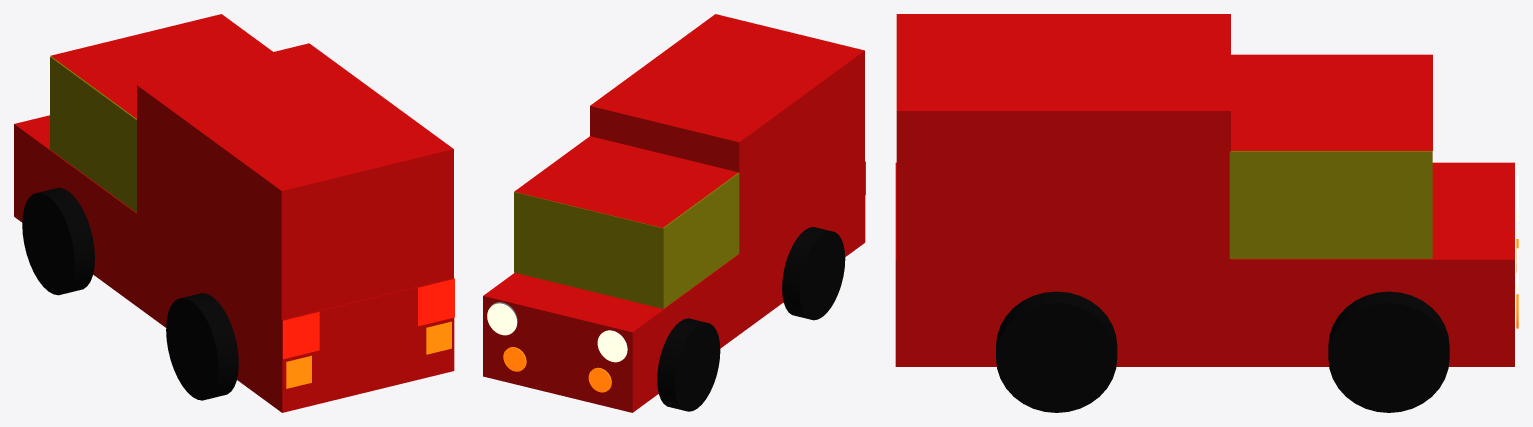
The model's file is pickup truck 1.fbx.
The picture shows the model from 3 angles, left to right: view 1: azimuth 30°, elevation 25°; view 2: azimuth 150°, elevation 25°; view 3: azimuth 270°, elevation 25°; orthographic projection. The views are drawn at different scales.
Parts seen in each view (by area): view 1: Cube.020, Cube.018, Plane.057, Cube.019, Circle.099, Circle.101, Plane.045, Plane.044, Plane.055, Plane.056; view 2: Cube.020, Cube.018, Cube.019, Plane.057, Circle.101, Circle.099, Circle.102, Circle.094, Circle.095, Circle.096; view 3: Cube.020, Cube.018, Cube.019, Plane.057, Circle.098, Circle.100.
Boxes of the visible parts, x1=… form: Cube.020: x1=137, y1=43, x2=453, y2=319; Cube.018: x1=14, y1=115, x2=454, y2=412; Plane.057: x1=50, y1=14, x2=272, y2=118; Cube.019: x1=50, y1=56, x2=136, y2=212; Circle.099: x1=22, y1=187, x2=94, y2=295; Circle.101: x1=166, y1=293, x2=238, y2=400; Plane.045: x1=418, y1=279, x2=454, y2=326; Plane.044: x1=283, y1=312, x2=319, y2=359; Plane.055: x1=426, y1=321, x2=451, y2=354; Plane.056: x1=286, y1=355, x2=311, y2=388; Cube.020: x1=590, y1=14, x2=864, y2=253; Cube.018: x1=483, y1=162, x2=865, y2=412; Cube.019: x1=514, y1=173, x2=739, y2=308; Plane.057: x1=514, y1=136, x2=738, y2=227; Circle.101: x1=782, y1=227, x2=845, y2=320; Circle.099: x1=657, y1=318, x2=720, y2=411; Circle.102: x1=597, y1=330, x2=627, y2=362; Circle.094: x1=487, y1=303, x2=517, y2=335; Circle.095: x1=588, y1=367, x2=611, y2=392; Circle.096: x1=503, y1=347, x2=526, y2=371; Cube.020: x1=896, y1=14, x2=1230, y2=260; Cube.018: x1=895, y1=162, x2=1514, y2=366; Cube.019: x1=1229, y1=151, x2=1432, y2=258; Plane.057: x1=1231, y1=54, x2=1432, y2=150; Circle.098: x1=1328, y1=291, x2=1449, y2=412; Circle.100: x1=996, y1=291, x2=1117, y2=412.
Bounding box in the file's own units: 247 × 279 × 544.
